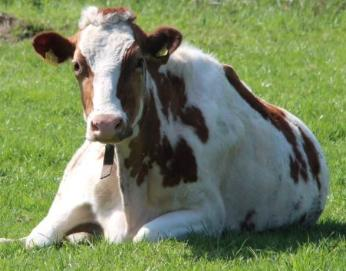cow: (25, 7, 327, 250)
